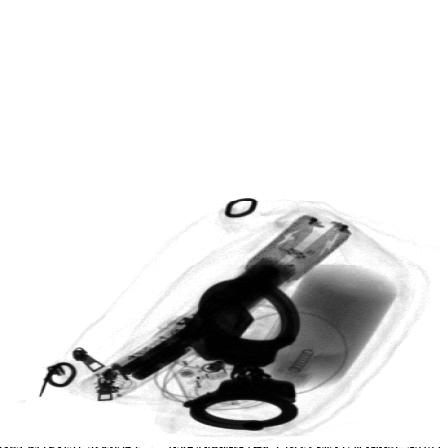Baton: (111, 213, 351, 384)
HandCuffs: (185, 278, 301, 431)
Lighter: (186, 299, 256, 363)
